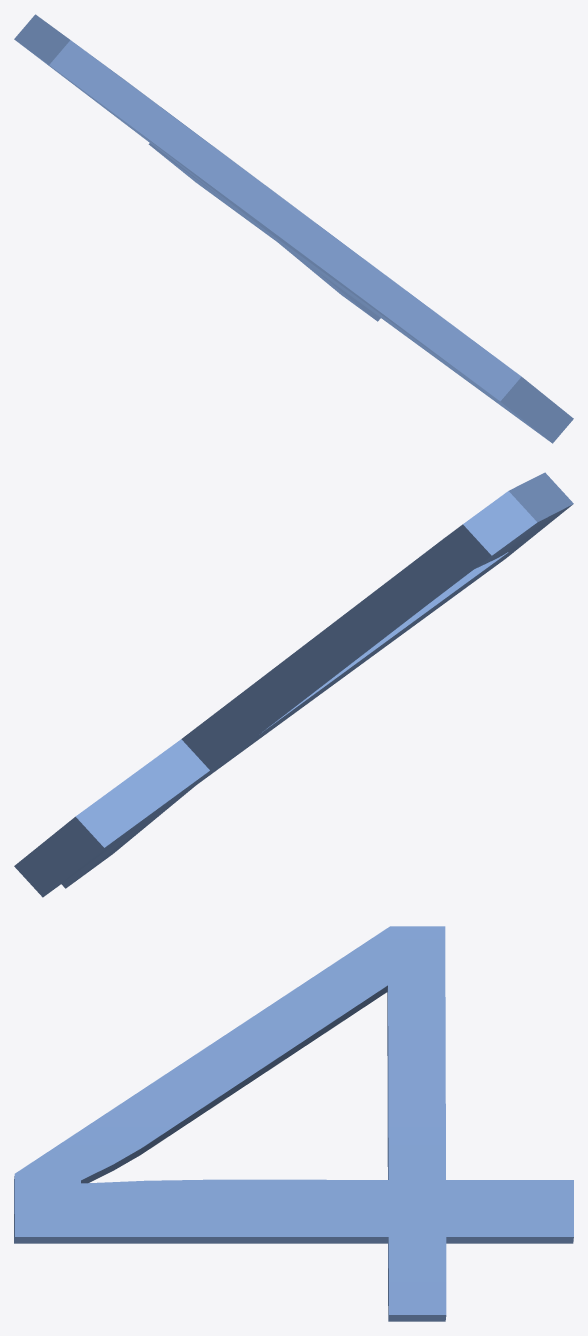
The model's file is New_Number_4.gltf.
3 views of the same model, one above another, from view 1: azimuth 30°, elevation 25°; view 2: azimuth 150°, elevation 25°; view 3: azimuth 270°, elevation 25° (orthographic). The views are drawn at different scales.
Parts seen in each view (by area): view 1: Part 256; view 2: Part 256; view 3: Part 256.
Part boxes in pixels (<box>): Part 256: <box>14,14,573,443</box>; Part 256: <box>14,472,573,897</box>; Part 256: <box>14,926,573,1321</box>.
Size of the model in its own units: 0.00312 by 0.00304 by 0.00553.
